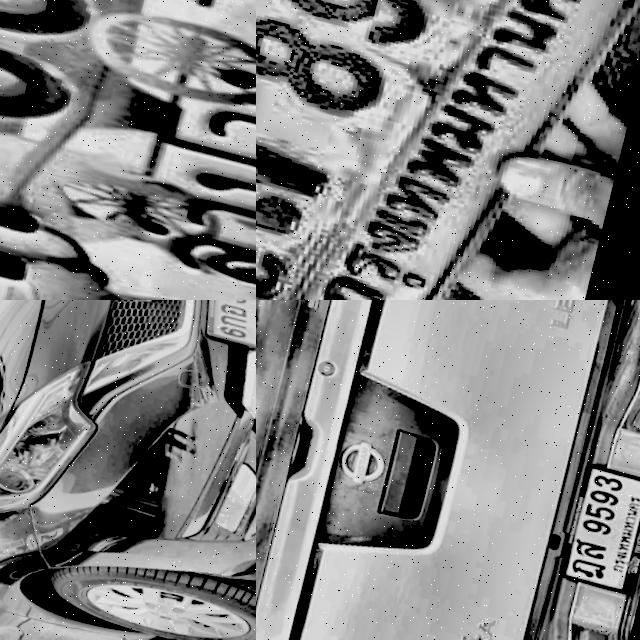license-plate: (256, 0, 640, 300), (0, 0, 256, 300), (556, 445, 640, 588), (194, 300, 256, 348)
